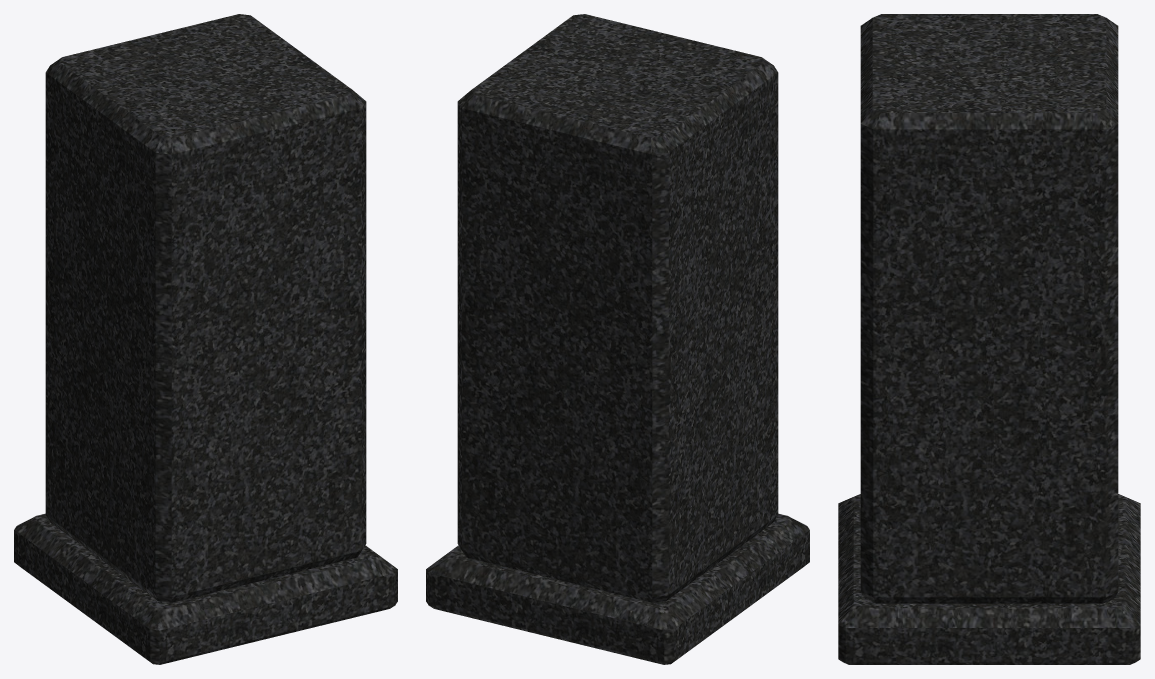
The model's file is post-stone-wave.glb.
3 renders of one model, left to right at view 1: azimuth 30°, elevation 25°; view 2: azimuth 150°, elevation 25°; view 3: azimuth 270°, elevation 25°, orthographic. The views are drawn at different scales.
Visible parts, largest first — view 1: post-stone-wave; view 2: post-stone-wave; view 3: post-stone-wave.
Part boxes in pixels (left/top/right/bottom): post-stone-wave: left=14, top=14, right=397, bottom=664; post-stone-wave: left=426, top=14, right=809, bottom=664; post-stone-wave: left=838, top=14, right=1140, bottom=664.
Size of the model in its own units: 0.168 by 0.331 by 0.168.
2 materials, 2 textured.
